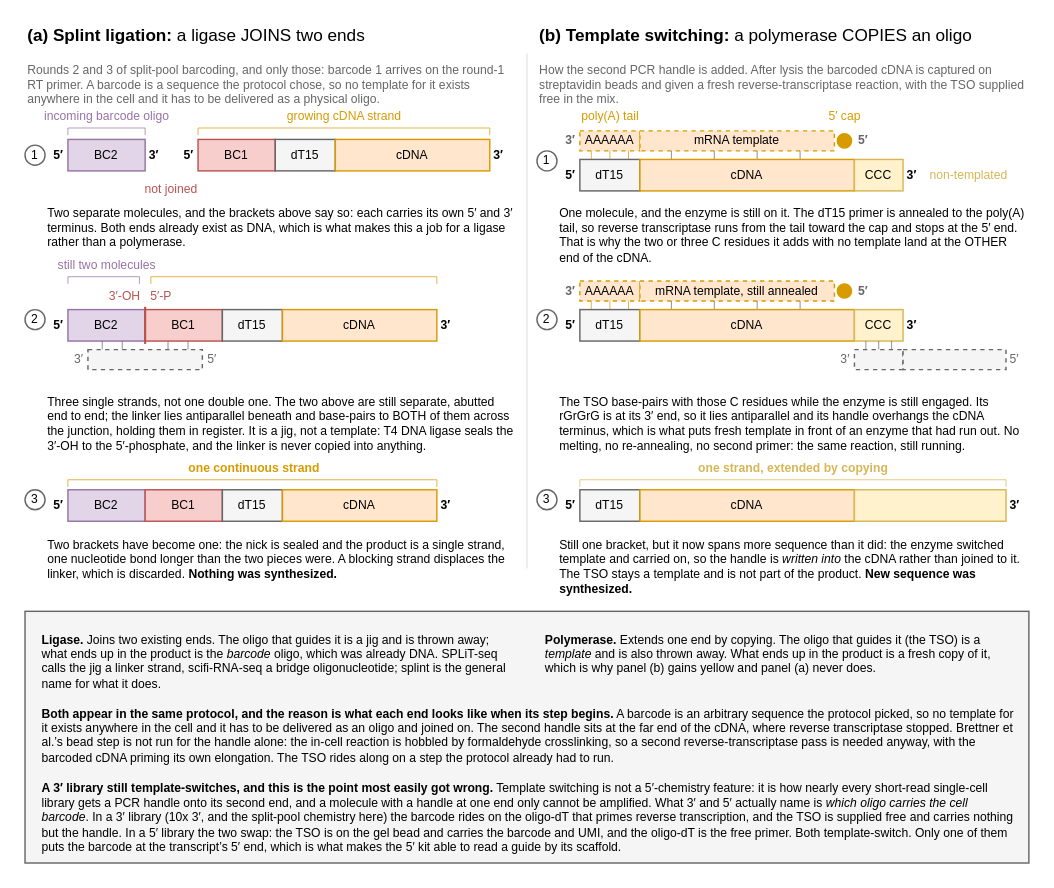
This 1054x888 diagram has some shape labels left out. Here are the shapes that lost their labels. From the top down, the box of each, then its label:
(87, 348, 202, 370): linker strand
(853, 348, 903, 370): rGrGrG
(902, 348, 1006, 370): handle (R2)
(853, 488, 1006, 521): handle (R2), written in
